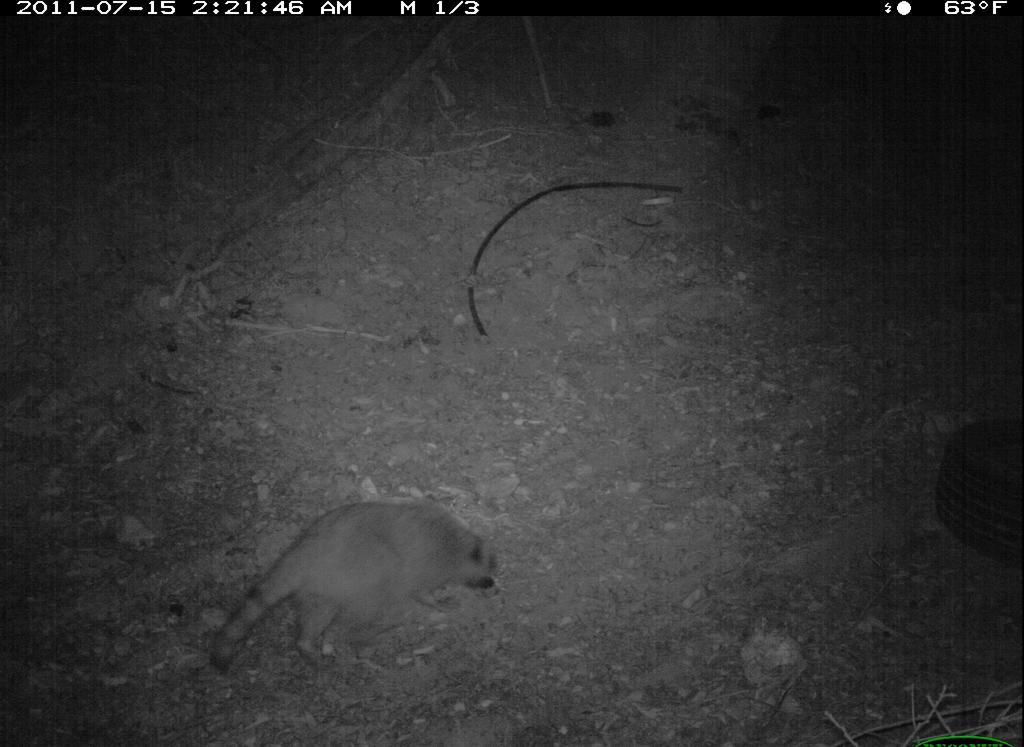raccoon: (187, 457, 533, 694)
